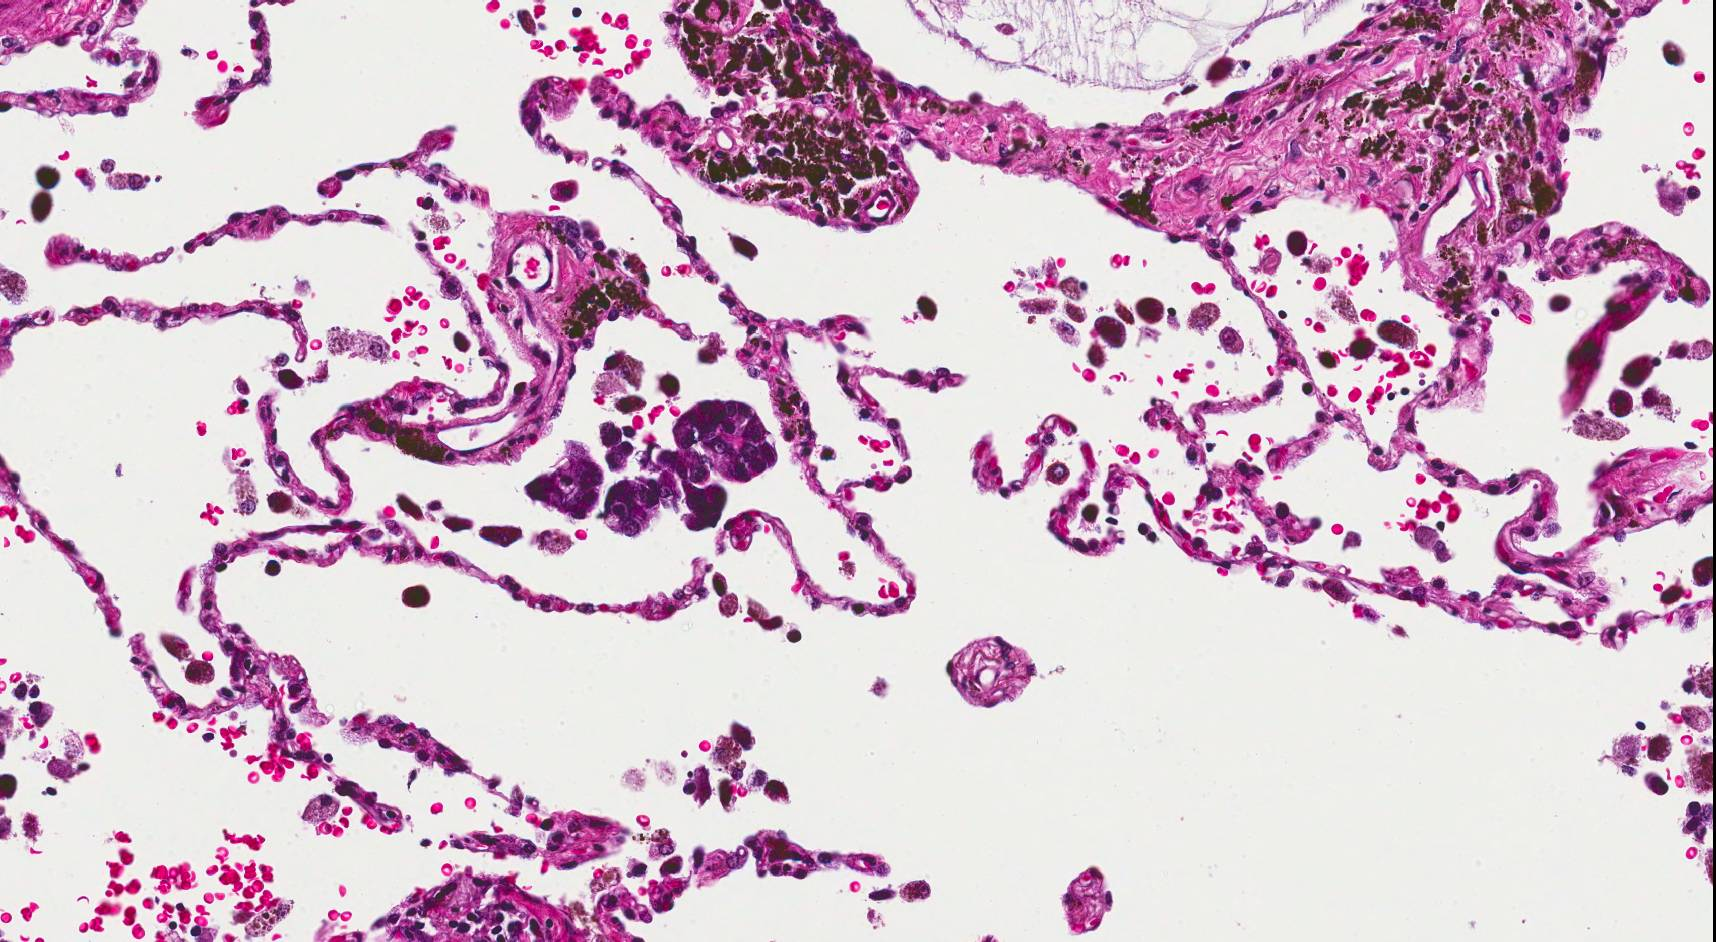stas: (521, 398, 780, 540)
